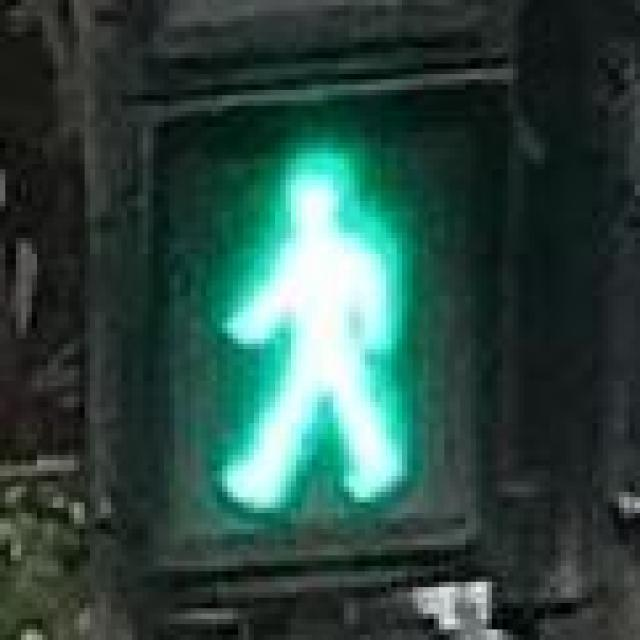green_light: (127, 100, 497, 529)
